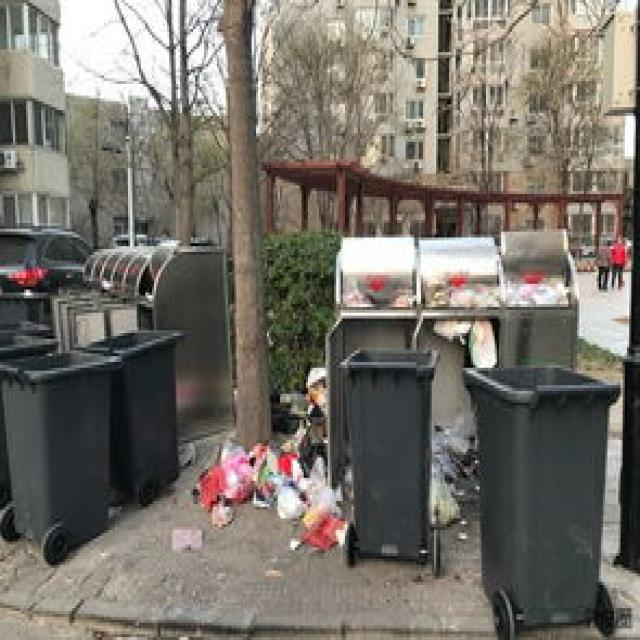garbage: (170, 365, 352, 556)
garbage_bin: (460, 359, 618, 629), (0, 347, 121, 544), (338, 345, 438, 559), (85, 327, 180, 495)
